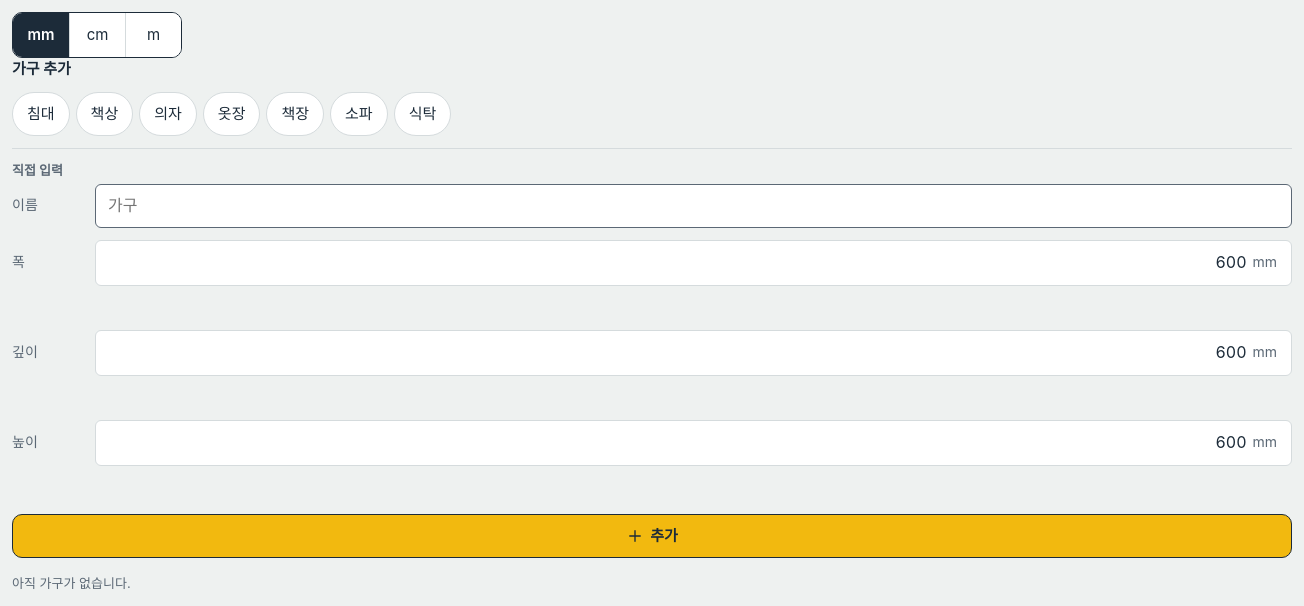
Test: 가구 추가 › 거부된 칸에서 Enter를 누르면 추가되지 않는다
Replace the text in the field with test id "furniture-w" with "1000" at (674, 263), box [96,241,1252,285]
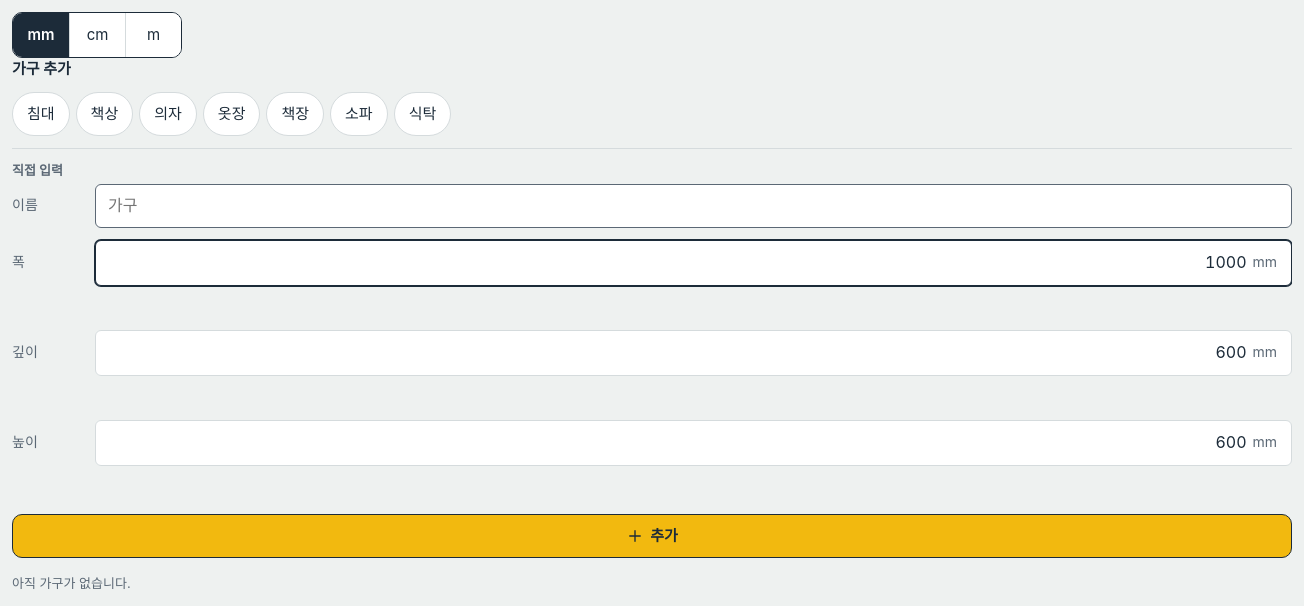
Replace the text in the field with test id "furniture-h" with "abc" at (674, 443), box [96,421,1252,465]
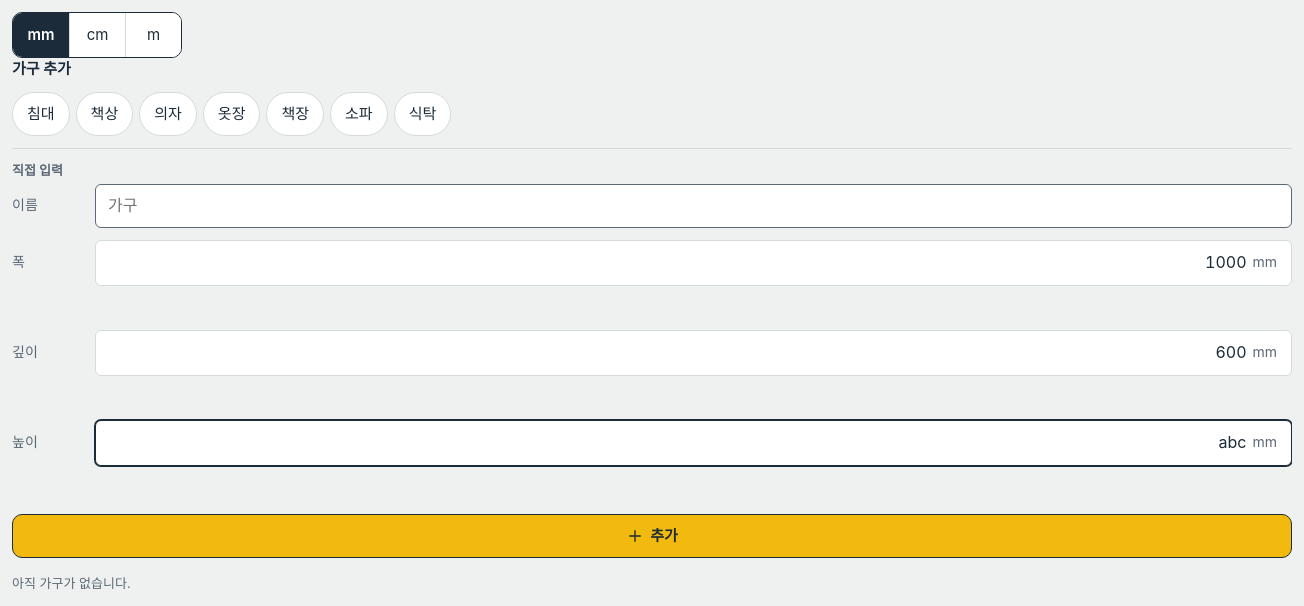
Press Enter
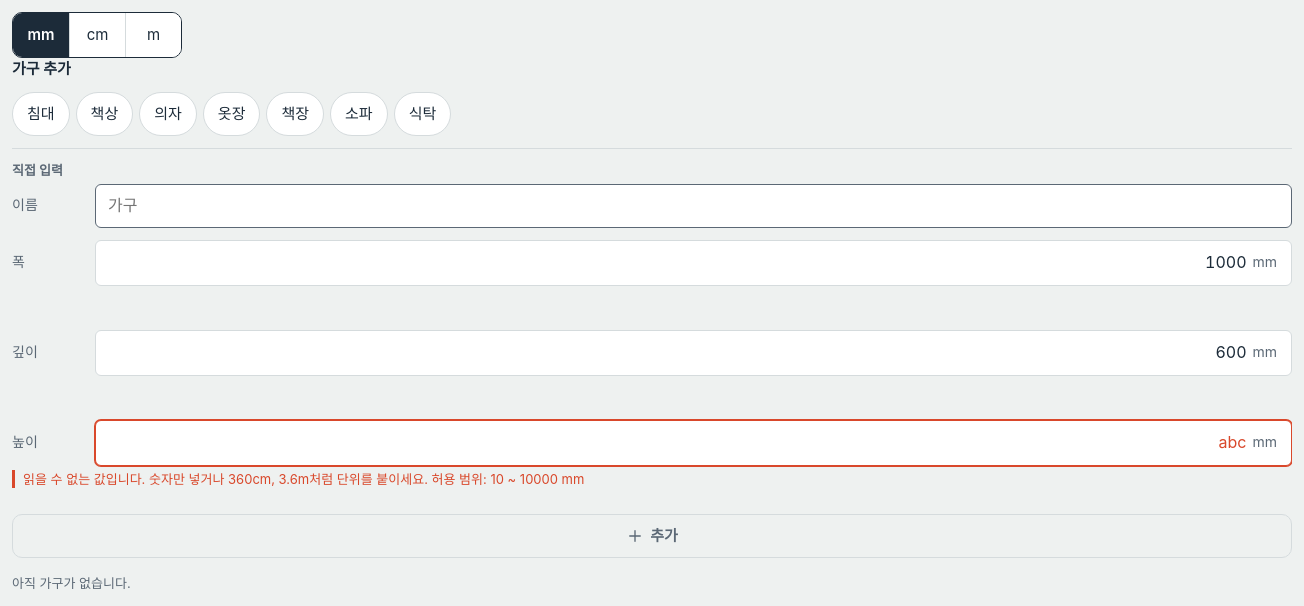
Expected: the message "읽을 수 없는 값입니다. 숫자만 넣거나 360cm, 3.6m처럼 단위를 붙이세요. 허용 범위: 10 ~ 10000 mm" is shown, [12,470,1292,488]
